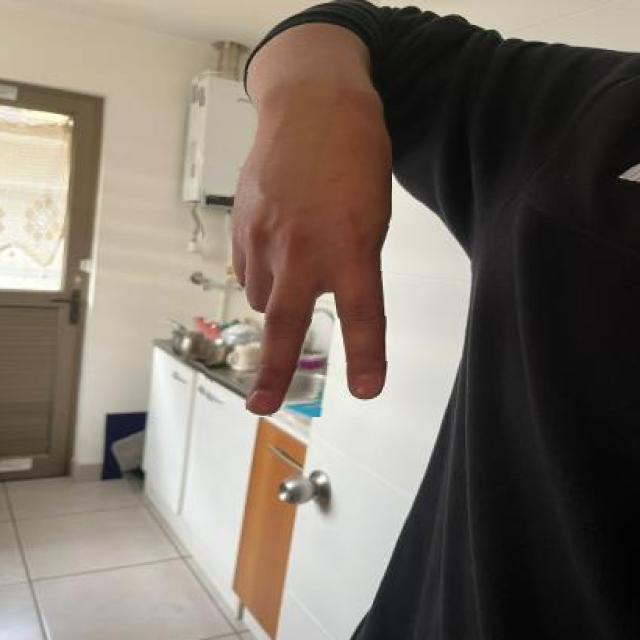N: (198, 68, 392, 417)
